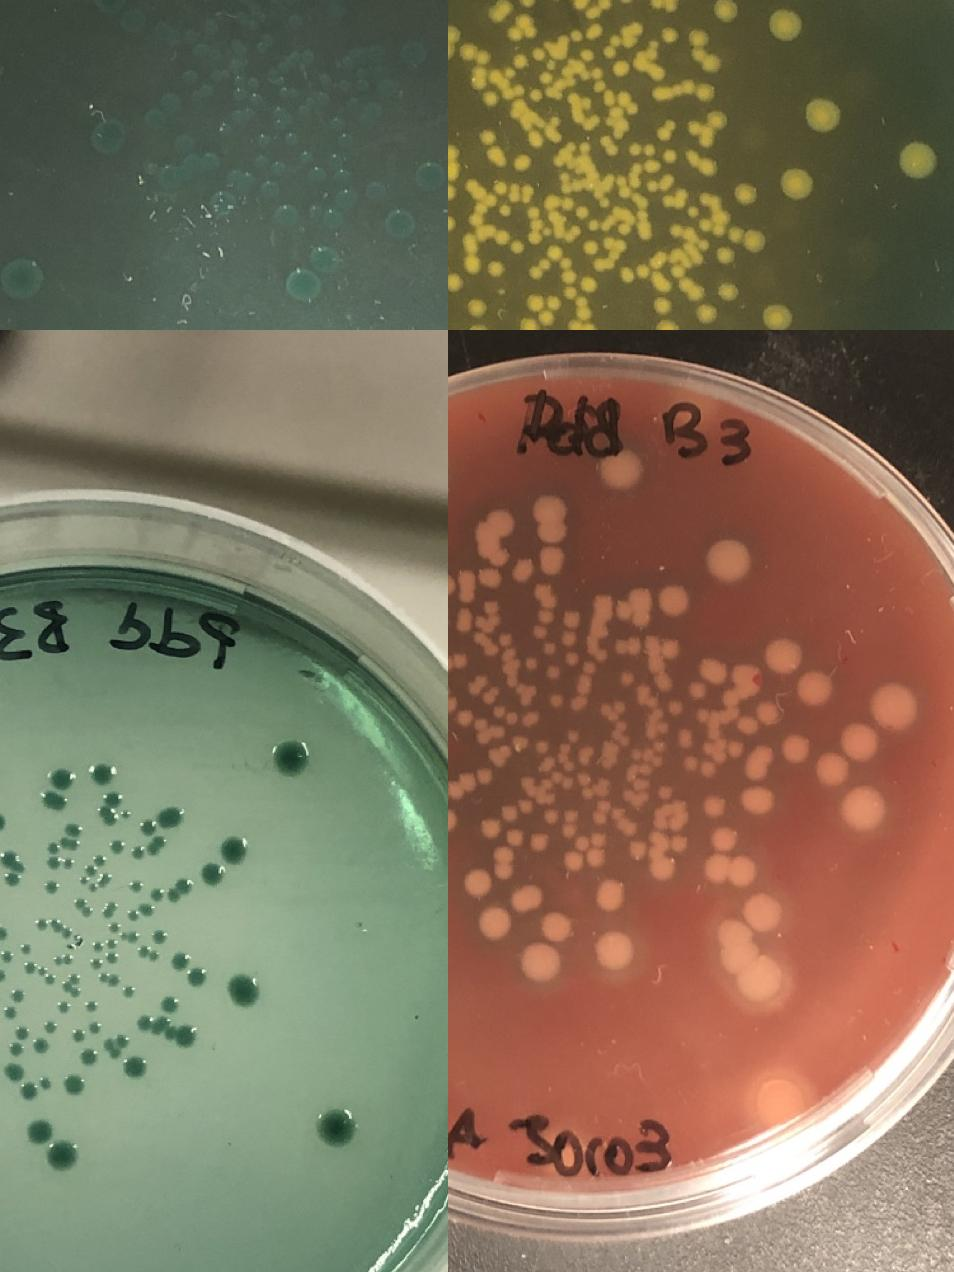pddamselae: (815, 720, 881, 788), (518, 908, 573, 985), (840, 784, 888, 833), (871, 683, 919, 732), (137, 1015, 199, 1051), (705, 538, 753, 585), (0, 258, 47, 300), (701, 853, 758, 888), (532, 493, 568, 545), (615, 586, 654, 630), (85, 117, 127, 157), (563, 833, 607, 871), (448, 766, 493, 803), (47, 822, 83, 868), (593, 930, 633, 972), (737, 700, 781, 736), (744, 893, 783, 933), (764, 636, 803, 676), (139, 803, 184, 836), (43, 764, 75, 809), (797, 670, 834, 707), (44, 1139, 80, 1175), (318, 1108, 354, 1144), (273, 739, 309, 775), (223, 971, 259, 1007), (288, 268, 322, 304), (382, 207, 416, 243), (414, 159, 448, 195), (478, 906, 512, 942), (656, 585, 690, 620), (457, 710, 490, 746), (593, 876, 626, 911), (462, 866, 494, 899), (77, 853, 107, 888), (534, 583, 559, 625), (151, 877, 194, 901), (0, 850, 26, 886), (780, 734, 813, 762), (20, 1073, 55, 1099), (131, 835, 168, 859), (22, 961, 58, 985), (559, 610, 582, 647), (90, 936, 120, 965), (448, 653, 469, 691), (25, 1118, 53, 1146), (89, 758, 117, 786), (492, 845, 514, 880), (221, 836, 249, 863), (122, 1054, 150, 1080), (501, 799, 534, 821), (539, 772, 574, 792), (199, 862, 225, 888), (143, 107, 167, 133), (93, 0, 127, 17), (560, 807, 578, 839), (492, 703, 518, 725), (610, 720, 631, 747), (104, 806, 132, 826), (556, 743, 576, 771), (703, 795, 727, 819), (125, 903, 154, 921), (627, 839, 649, 862), (528, 830, 550, 853), (479, 816, 501, 839), (686, 679, 708, 702), (60, 973, 81, 997), (669, 833, 690, 855), (599, 700, 626, 717), (74, 896, 94, 918), (50, 950, 74, 967), (137, 944, 158, 961), (6, 1063, 24, 1081), (80, 1047, 98, 1065), (172, 951, 190, 970), (104, 789, 122, 807), (506, 829, 524, 847), (65, 1075, 82, 1093), (113, 1033, 130, 1051), (161, 997, 178, 1015), (188, 969, 205, 987), (726, 741, 744, 758), (571, 693, 588, 711), (531, 625, 549, 641), (613, 638, 629, 655), (482, 601, 500, 616), (483, 642, 498, 659), (591, 811, 607, 826), (543, 810, 559, 825), (564, 651, 580, 666), (659, 784, 673, 801), (498, 744, 512, 761), (578, 770, 591, 787), (448, 810, 457, 834), (701, 761, 715, 776), (683, 756, 697, 771), (448, 574, 457, 597), (32, 1038, 46, 1052), (73, 1027, 87, 1041), (14, 1025, 28, 1039), (2, 1004, 16, 1018), (85, 999, 99, 1013), (55, 999, 69, 1013), (10, 989, 24, 1003), (122, 984, 136, 998), (107, 974, 121, 988), (153, 928, 167, 942), (125, 927, 139, 941), (107, 919, 121, 933), (34, 916, 48, 930), (105, 899, 119, 913), (129, 877, 143, 891), (99, 870, 113, 884), (110, 840, 124, 854), (535, 739, 549, 753), (566, 729, 580, 743), (546, 665, 560, 679), (542, 641, 556, 655), (8, 1043, 22, 1056), (43, 1021, 56, 1035), (89, 1020, 102, 1034), (90, 956, 103, 970), (20, 941, 33, 956), (44, 880, 57, 894), (669, 701, 682, 715), (550, 695, 563, 709), (482, 691, 495, 705), (619, 673, 632, 687), (582, 661, 596, 674), (524, 658, 537, 672), (498, 634, 512, 647), (448, 697, 460, 712), (1, 949, 14, 963), (631, 747, 643, 760), (474, 616, 486, 629), (652, 756, 664, 768), (0, 811, 4, 833), (0, 969, 5, 982)
vharveyi: (539, 47, 606, 98), (527, 197, 582, 244), (528, 246, 577, 298), (463, 224, 510, 256), (697, 192, 730, 237), (466, 179, 496, 226), (635, 251, 668, 292), (462, 43, 490, 89), (633, 38, 663, 79), (592, 236, 625, 271), (567, 294, 595, 330), (730, 226, 766, 253), (782, 167, 813, 198), (901, 144, 932, 175), (494, 181, 534, 205), (807, 100, 838, 129), (769, 10, 799, 39), (761, 302, 791, 330), (652, 79, 694, 98), (636, 197, 651, 239), (663, 187, 687, 211), (735, 182, 759, 206), (693, 47, 719, 70), (648, 171, 673, 193), (517, 13, 537, 40), (620, 23, 642, 47), (714, 0, 738, 22), (567, 93, 592, 112), (680, 279, 703, 299), (617, 91, 636, 115), (587, 0, 611, 19), (604, 33, 621, 59), (586, 217, 611, 234), (652, 295, 672, 315), (719, 282, 739, 302), (671, 259, 691, 279), (615, 174, 631, 198), (715, 245, 735, 265), (503, 83, 525, 100), (601, 134, 617, 157), (509, 97, 525, 120), (629, 161, 642, 189), (697, 304, 717, 324), (658, 119, 676, 139), (554, 147, 571, 167), (671, 225, 695, 239), (673, 243, 695, 258), (560, 0, 591, 10), (556, 33, 569, 53), (448, 27, 456, 59), (650, 0, 676, 9), (463, 322, 489, 330), (519, 320, 539, 330), (469, 301, 483, 315), (582, 279, 596, 293), (465, 260, 479, 274), (583, 241, 597, 255), (511, 239, 525, 253), (687, 205, 701, 219), (496, 203, 510, 217), (701, 161, 715, 175), (514, 156, 528, 170), (487, 147, 501, 161), (613, 61, 627, 75), (507, 27, 521, 41), (587, 24, 601, 38), (496, 0, 510, 14), (539, 311, 553, 325), (528, 296, 541, 310), (547, 294, 560, 308), (620, 266, 633, 280), (488, 262, 502, 275), (698, 218, 711, 232), (576, 206, 589, 220), (479, 129, 492, 143), (710, 113, 724, 127), (697, 86, 710, 100), (692, 31, 705, 45), (657, 321, 677, 330), (483, 93, 496, 106), (448, 275, 460, 289), (597, 195, 609, 209), (561, 182, 573, 196), (646, 159, 658, 173), (664, 150, 676, 164), (548, 115, 560, 129), (611, 106, 623, 120), (530, 88, 542, 102), (489, 69, 501, 83), (504, 67, 516, 81), (514, 56, 526, 70), (533, 47, 545, 61), (562, 198, 574, 211), (643, 144, 655, 157), (628, 143, 640, 156), (529, 134, 541, 147), (689, 121, 701, 134), (663, 29, 675, 42), (572, 29, 584, 42), (694, 253, 706, 265), (697, 239, 709, 251), (619, 222, 631, 234), (687, 152, 699, 164), (701, 134, 713, 146), (603, 94, 615, 106), (448, 211, 455, 231), (448, 163, 458, 177), (448, 146, 457, 160), (448, 184, 454, 198), (521, 0, 533, 6)
